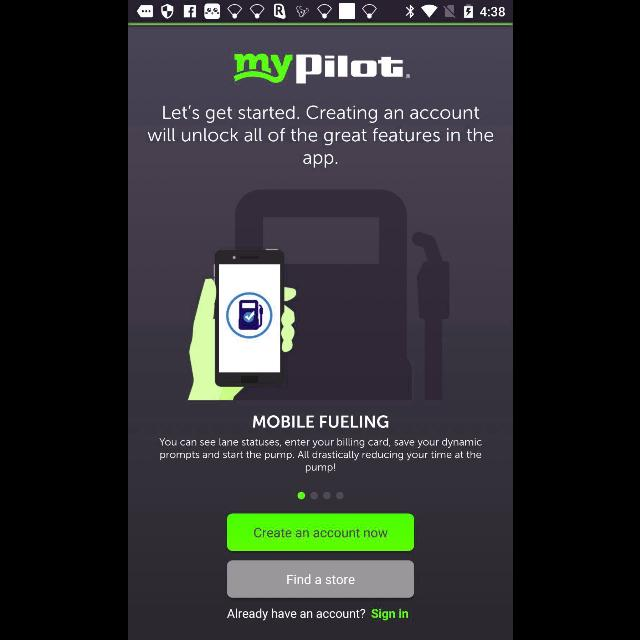image: (187, 190, 449, 400), (232, 54, 410, 85)
pageindicator: (296, 492, 344, 500)
text: (147, 105, 493, 168), (158, 438, 482, 472), (226, 608, 364, 620), (252, 416, 388, 428), (370, 609, 408, 621)
textbutton: (226, 560, 414, 598), (226, 514, 414, 550)
uppertaskbar: (128, 1, 512, 23)
